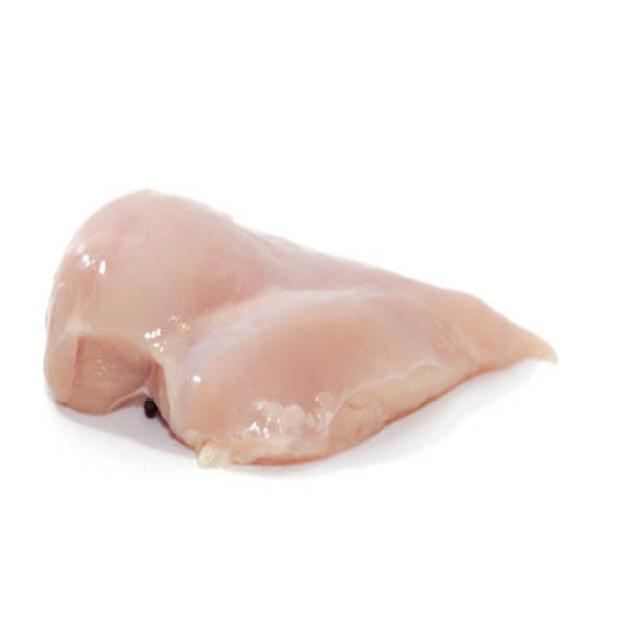Chicken Breast: (34, 155, 608, 517)
